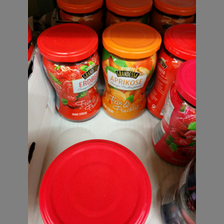jam: (37, 23, 102, 123), (100, 20, 163, 120), (151, 58, 196, 165)
